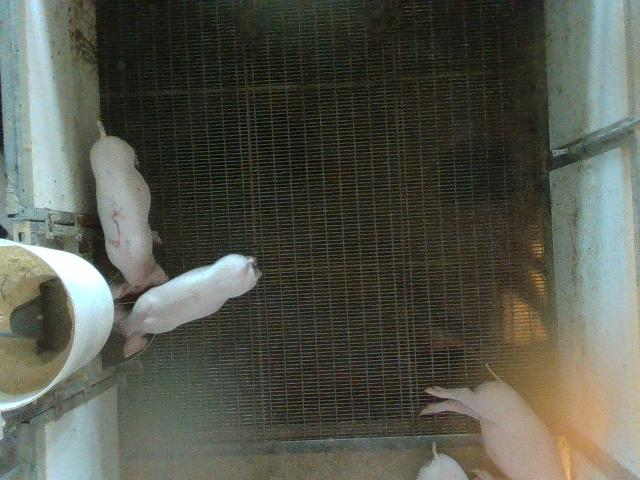pig-5: (90, 122, 168, 297)
